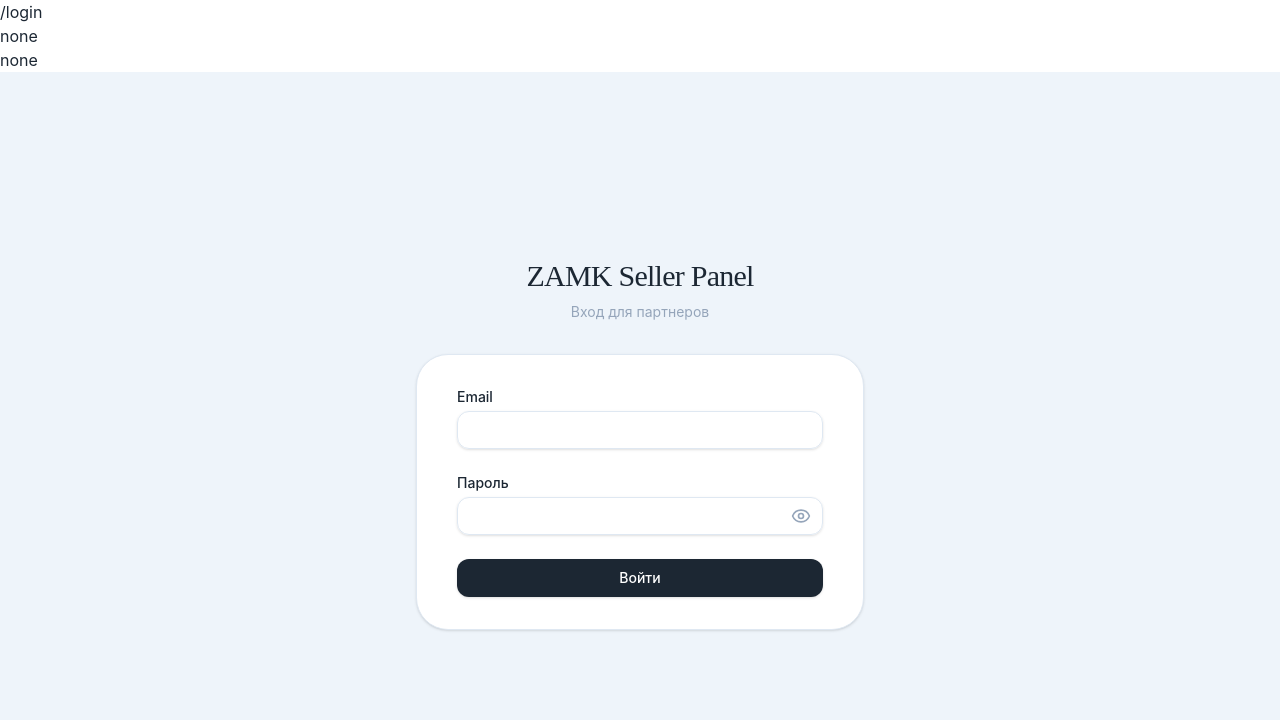
Test: Seller URL-Preserving Auth Gate & Deep-Link Invariants › URL-Preserving Auth Gate Integration Flows › explicit /login: unauthenticated visit shows login form and defaults to /dashboard on success
The width and height of the screenshot is (1280, 720).
Expected: the text with test id "current-pathname" reads "/login", [0,2,42,22]
Type "seller@zamk.local" into the field labelled "Email". click: (640, 430)
box: [457,411,823,449]
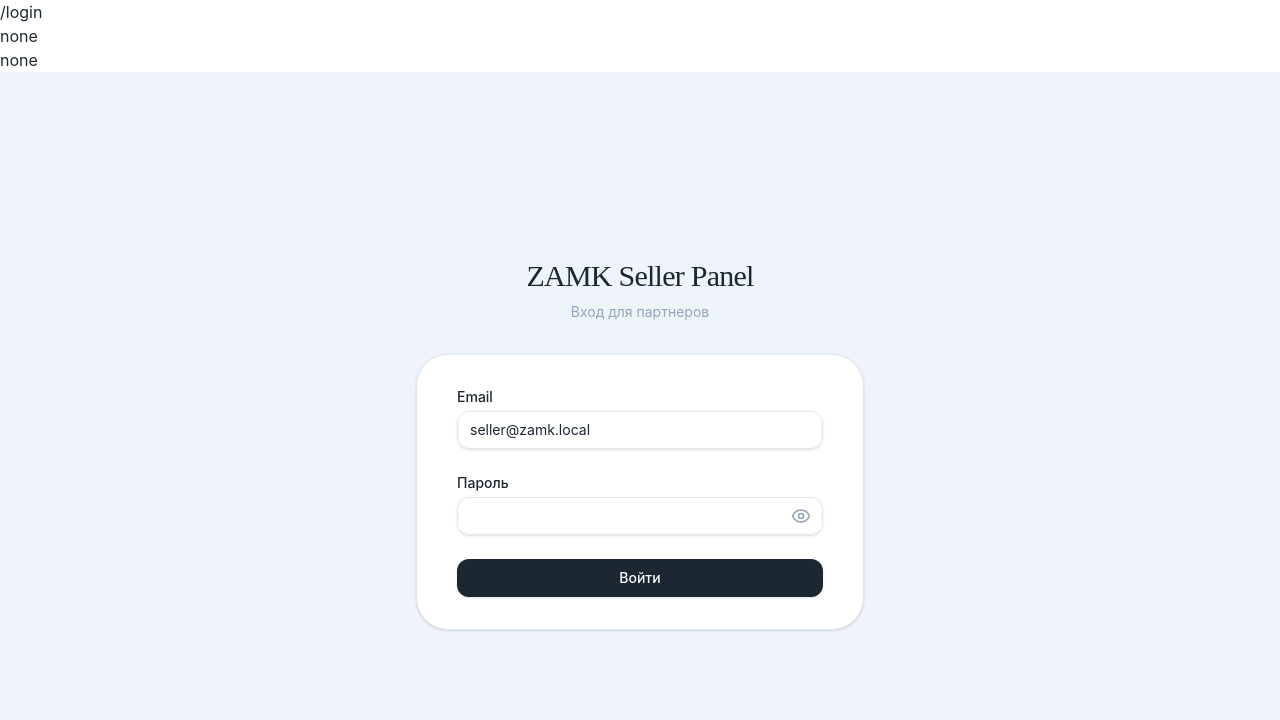
Type "password123" into the password field labelled "Пароль". click: (640, 516)
box: [457,497,823,535]
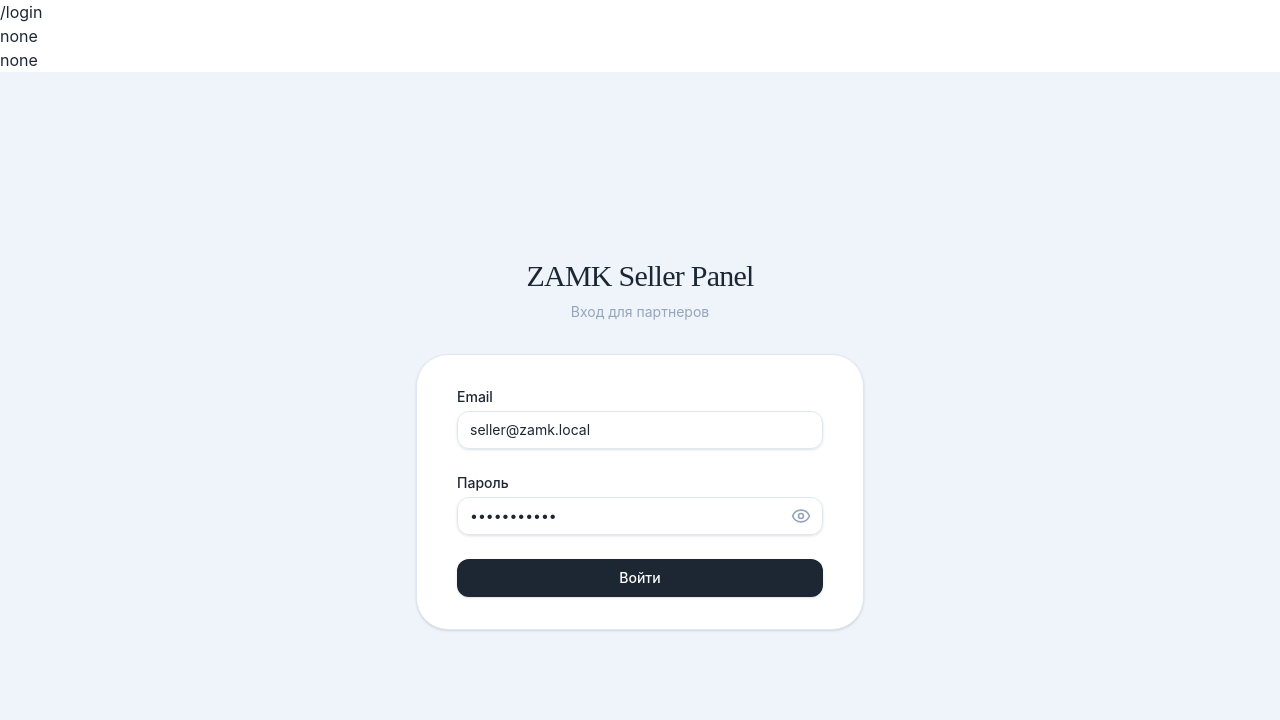
Click the button "Войти". click: (640, 578)
box: [457,559,823,597]
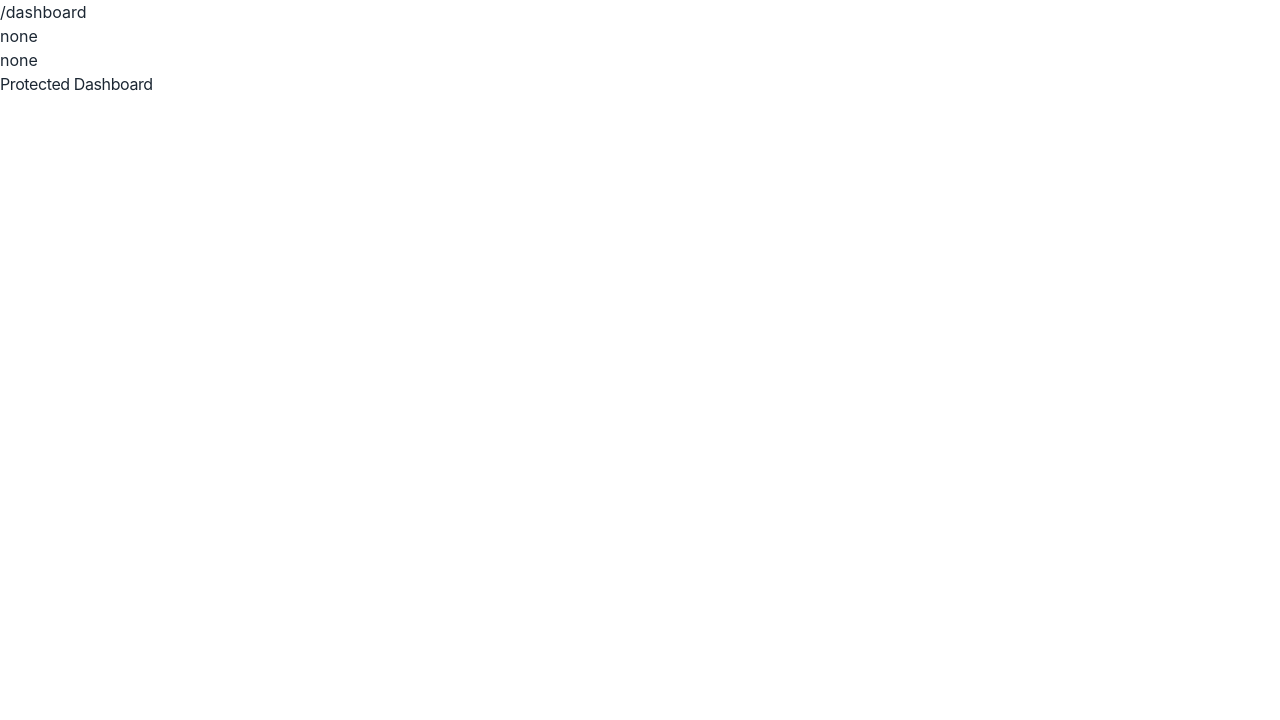
Expected: the heading "Protected Dashboard" is shown, [0,74,153,94]
Expected: the text with test id "current-pathname" reads "/dashboard", [0,2,86,22]
